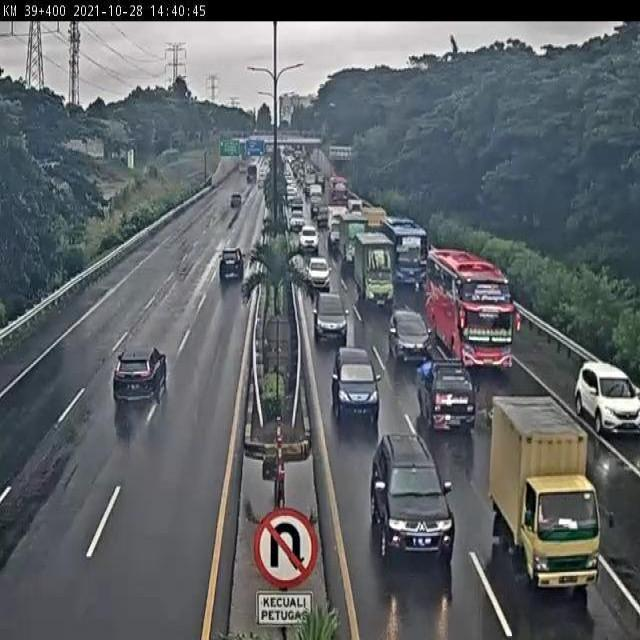car: (370, 432, 457, 565), (416, 357, 480, 435), (574, 363, 640, 433), (329, 344, 382, 423), (387, 307, 433, 367), (312, 289, 349, 343), (305, 256, 332, 292), (218, 245, 245, 280)
truck: (490, 395, 602, 591), (426, 244, 515, 372), (112, 345, 169, 404), (354, 232, 397, 309), (379, 220, 425, 288)
